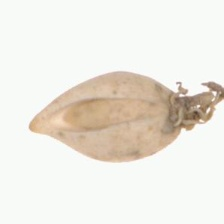L1: (164, 83, 200, 134), (26, 106, 70, 145)
L2: (28, 70, 221, 164)
